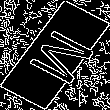M_SE: (15, 22, 95, 88)
